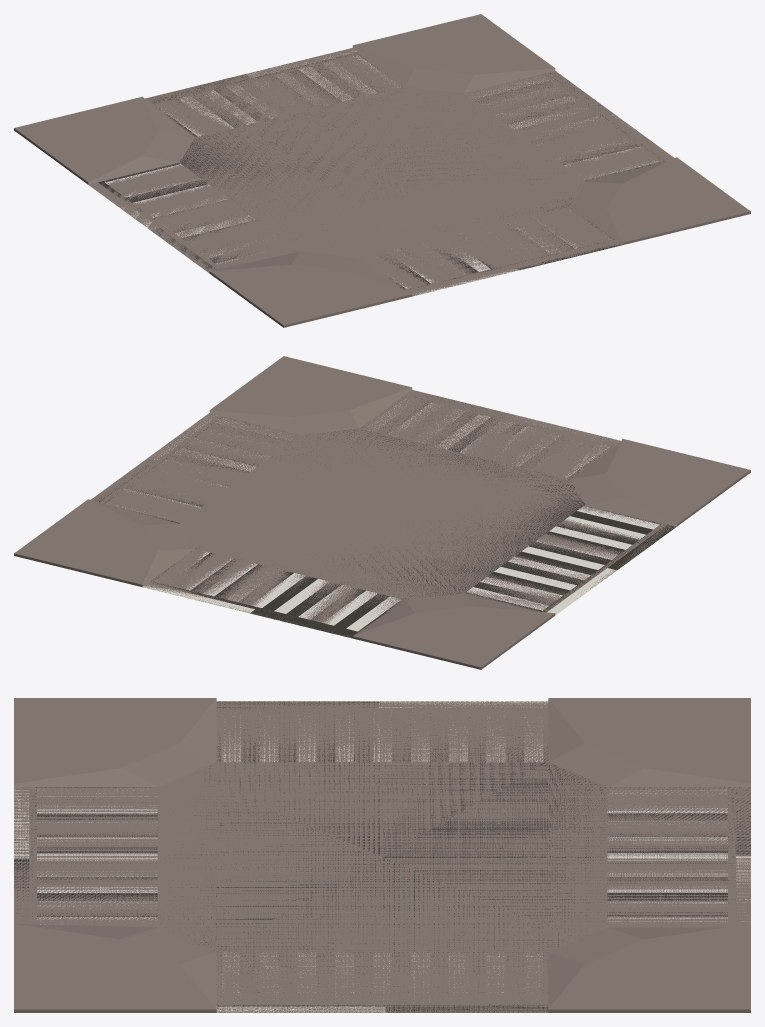
The model's file is Env_1lane_Cross.fbx.
3 renders of one model, top to bottom at view 1: azimuth 30°, elevation 25°; view 2: azimuth 150°, elevation 25°; view 3: azimuth 270°, elevation 25°, orthographic. The views are drawn at different scales.
Visible parts, largest first — view 1: Env_1lane_Cross; view 2: Env_1lane_Cross; view 3: Env_1lane_Cross.
Boxes of the visible parts, x1,y1,x2,y2 form: Env_1lane_Cross: (14,14,750,327); Env_1lane_Cross: (14,356,750,669); Env_1lane_Cross: (14,698,750,1012).
Bounding box in the file's own units: 2000 × 10 × 2000.
